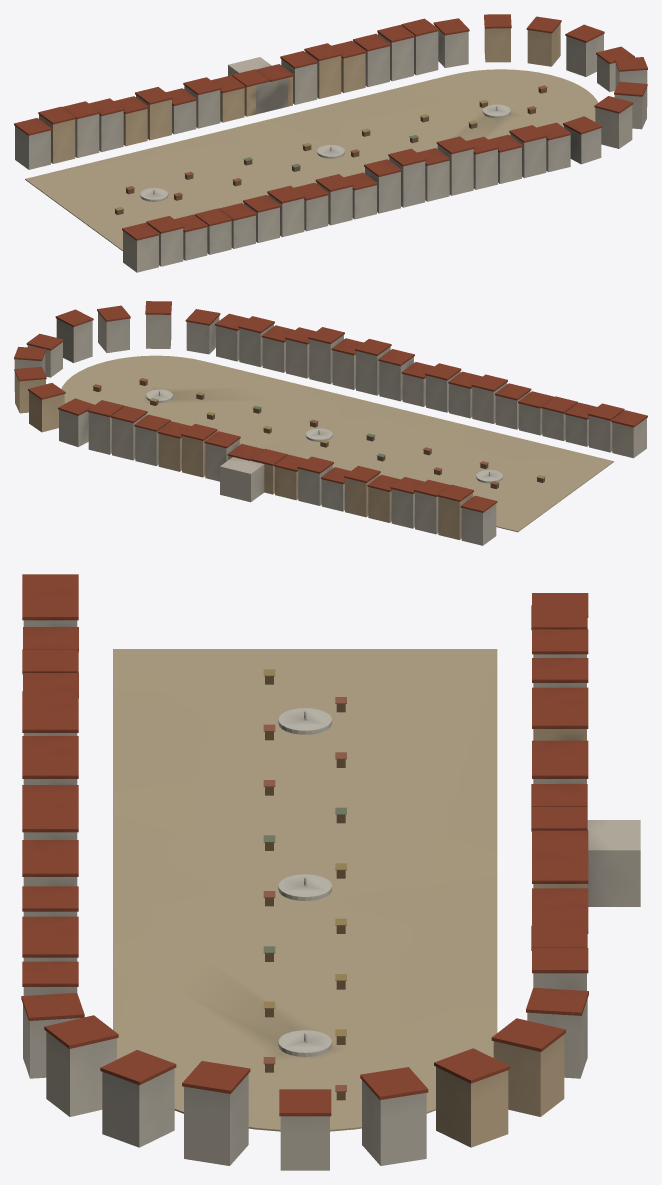
Rendered from piazza-navona.glb.
3 views of the same model, one above another, from view 1: azimuth 30°, elevation 25°; view 2: azimuth 150°, elevation 25°; view 3: azimuth 270°, elevation 25° (orthographic). The views are drawn at different scales.
Parts seen in each view (by area): view 1: p1_houses, p0_piazza, p2_fountains; view 2: p1_houses, p0_piazza, p2_fountains; view 3: p0_piazza, p1_houses, p2_fountains.
Part boxes in pixels (x1,y1,x2,y2): p1_houses: [14, 14, 647, 272]; p0_piazza: [25, 69, 598, 250]; p2_fountains: [114, 57, 547, 214]; p1_houses: [14, 301, 647, 545]; p0_piazza: [61, 355, 613, 532]; p2_fountains: [92, 378, 545, 502]; p0_piazza: [113, 649, 497, 1131]; p1_houses: [21, 574, 588, 1170]; p2_fountains: [263, 669, 640, 1100].
Bounding box in the file's own units: 281 × 20.74 × 138.
